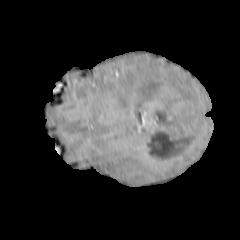glioma: (115, 61, 197, 133)
